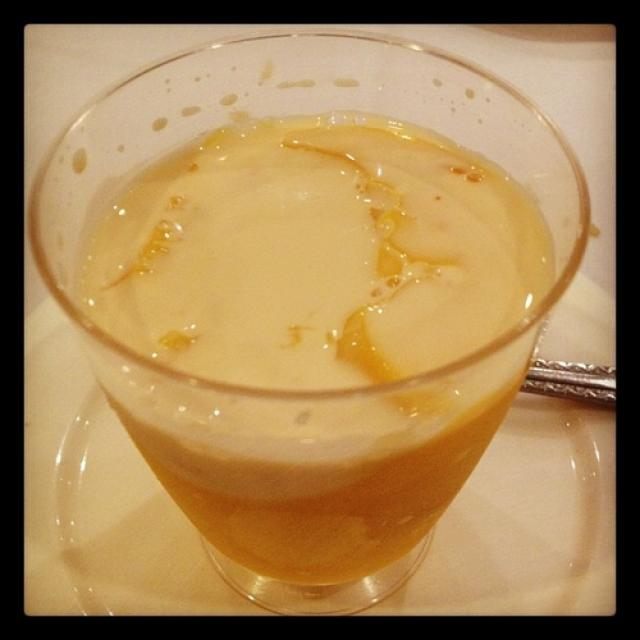蛋糕甜品: (29, 35, 598, 608)
